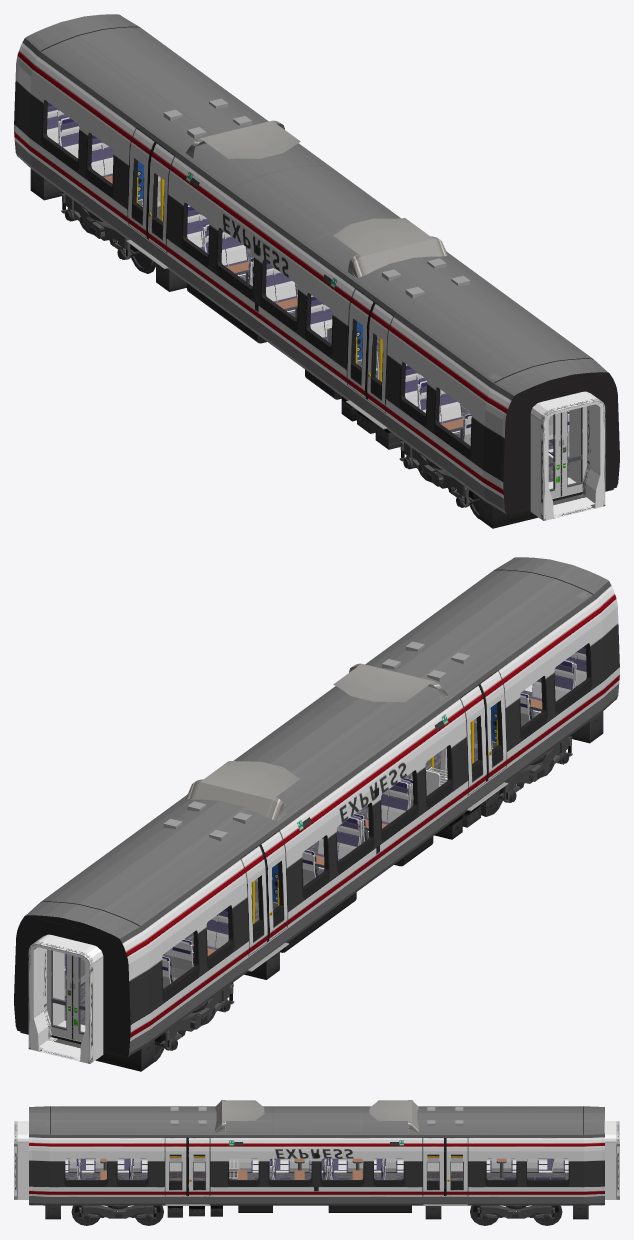
The model's file is module_express_trailer.obj.
3 renders of one model, top to bottom at view 1: azimuth 30°, elevation 25°; view 2: azimuth 150°, elevation 25°; view 3: azimuth 270°, elevation 25°, orthographic. The views are drawn at different scales.
Visible parts, largest first — view 1: m_side, m_jibung, m_aircon, m_mak, m_backout, m_oscarchair, m_habu, m_dt71, m_door_RB, m_door_RF, m_foldingchair, m_interiors (+1 smaller); view 2: m_side, m_jibung, m_aircon, m_mak, m_backout, m_oscarchair, m_habu, m_door_RB, m_door_RF, m_dt71, m_interiors, m_foldingchair (+3 smaller); view 3: m_side, m_jibung, m_dt71, m_oscarchair, m_aircon, m_mak, m_habu, m_door_LF, m_door_LB, m_floor, m_heater, m_foldingchair (+4 smaller).
Part boxes in pixels (<box>): m_side: <box>14,15,619,514</box>; m_jibung: <box>25,14,608,395</box>; m_aircon: <box>163,98,470,298</box>; m_mak: <box>530,391,605,520</box>; m_backout: <box>507,372,615,513</box>; m_oscarchair: <box>187,205,569,459</box>; m_habu: <box>30,168,613,528</box>; m_dt71: <box>61,192,479,518</box>; m_door_RB: <box>128,144,369,412</box>; m_door_RF: <box>147,158,387,426</box>; m_foldingchair: <box>47,102,332,340</box>; m_interiors: <box>327,326,586,498</box>; m_side: <box>14,558,619,1057</box>; m_jibung: <box>25,557,608,938</box>; m_aircon: <box>163,641,470,841</box>; m_mak: <box>28,934,103,1063</box>; m_backout: <box>18,915,126,1056</box>; m_oscarchair: <box>251,645,586,907</box>; m_habu: <box>20,711,603,1071</box>; m_door_RB: <box>247,700,487,968</box>; m_door_RF: <box>265,686,506,954</box>; m_dt71: <box>154,735,572,1061</box>; m_interiors: <box>47,767,447,1041</box>; m_foldingchair: <box>64,778,413,989</box>; m_side: <box>29,1106,604,1205</box>; m_jibung: <box>29,1106,604,1134</box>; m_dt71: <box>71,1205,562,1225</box>; m_oscarchair: <box>65,1158,403,1179</box>; m_aircon: <box>170,1100,463,1133</box>; m_mak: <box>14,1121,619,1199</box>; m_habu: <box>30,1205,603,1219</box>; m_door_LF: <box>165,1147,445,1203</box>; m_door_LB: <box>187,1147,467,1203</box>; m_floor: <box>65,1171,568,1180</box>; m_heater: <box>68,1162,564,1172</box>; m_foldingchair: <box>229,1158,568,1179</box>.
Bounding box in the file's own units: 2.88 × 3.97 × 20.53.
27 materials, 27 textured.
